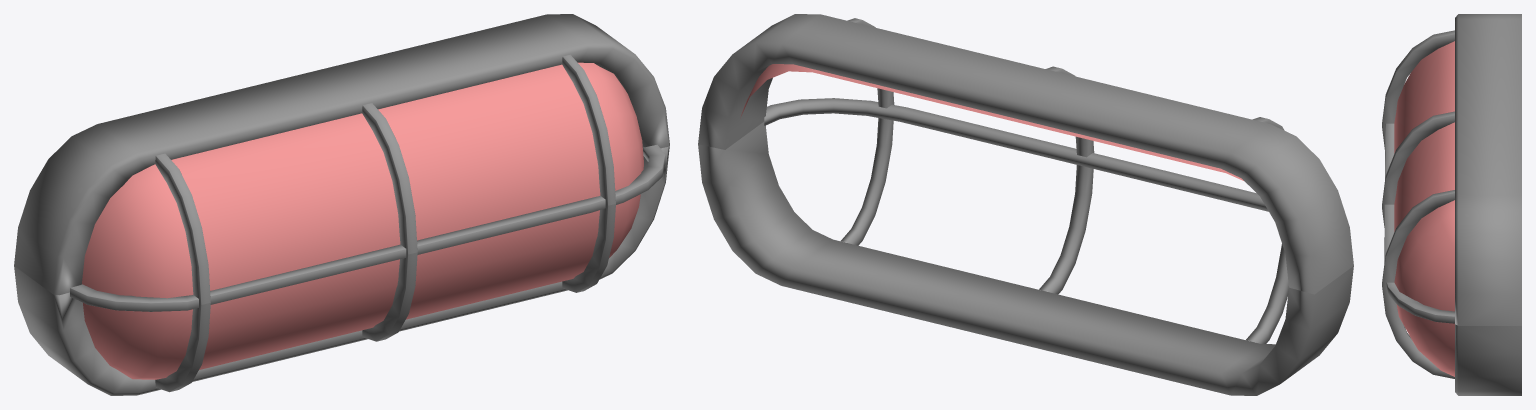
Rendered from SM_Light_3.gltf.
3 renders of one model, left to right at view 1: azimuth 30°, elevation 25°; view 2: azimuth 150°, elevation 25°; view 3: azimuth 270°, elevation 25°, orthographic. The views are drawn at different scales.
Parts seen in each view (by area): view 1: SM_Light_3; view 2: SM_Light_3; view 3: SM_Light_3.
Boxes of the visible parts, x1,y1,x2,y2 form: SM_Light_3: [14, 14, 669, 395]; SM_Light_3: [698, 14, 1353, 395]; SM_Light_3: [1382, 14, 1521, 395].
Size of the model in its own units: 0.511 by 0.1922 by 0.1251.
